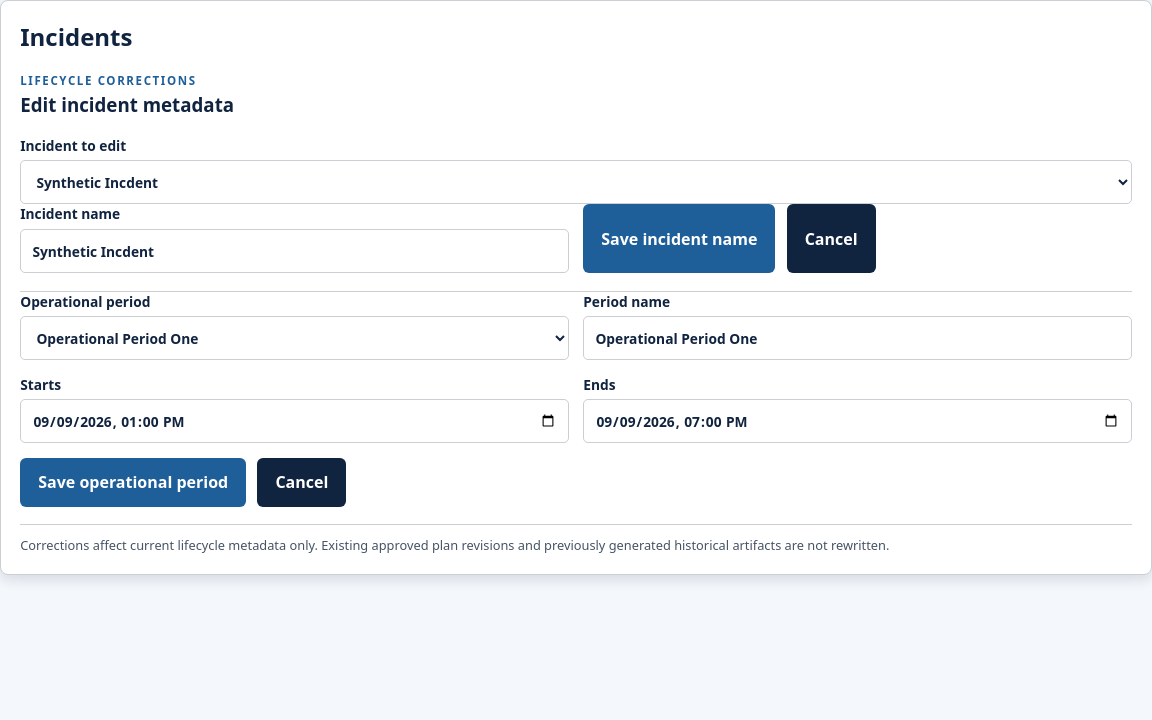
Test case: IncidentMetadataEditor › shows capability-gated current values and saves an incident rename
This screenshot has width=1152, height=720.
Expected: the field labelled "Period name" holds "Operational Period One", x1=583 y1=316 x2=1132 y2=360
Replace the text in the field labelled "Incident name" with "Synthetic Incident" at (294, 251), box x1=20 y1=229 x2=569 y2=273
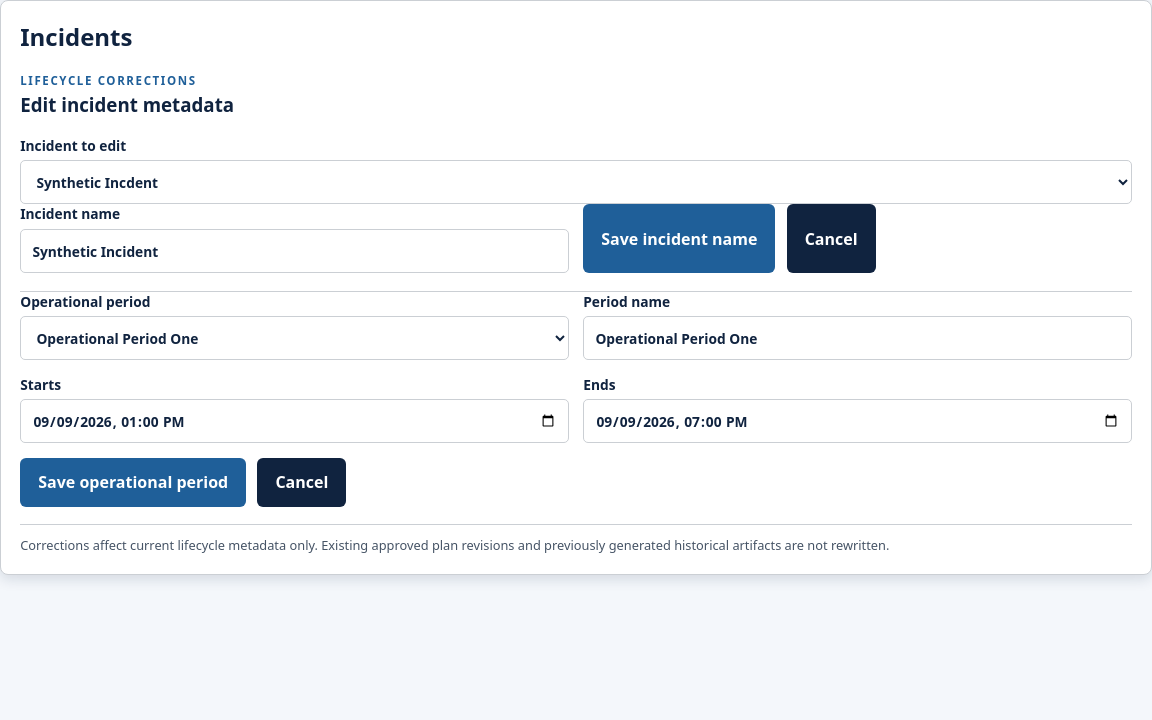
Click the button "Save incident name" at (679, 239), box x1=583 y1=204 x2=776 y2=273
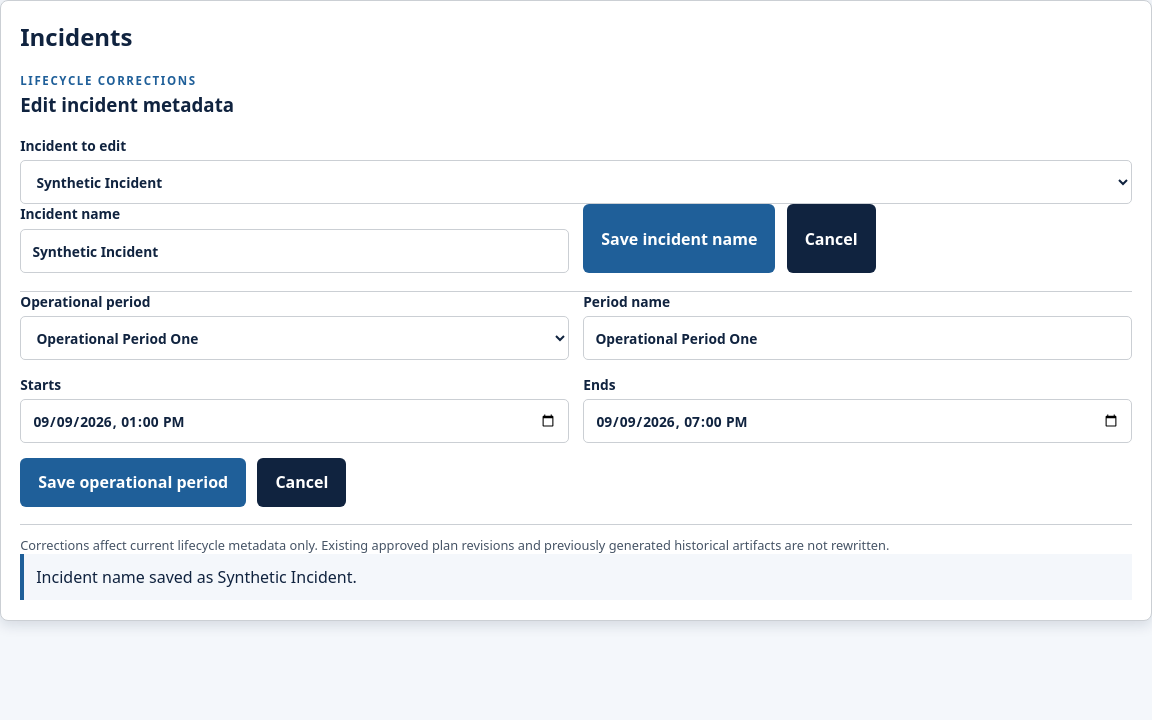
Expected: the text "Incident name saved as Synthetic Incident." is shown, x1=20 y1=554 x2=1132 y2=600
